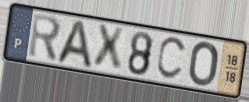8: (127, 30, 155, 78)
A: (53, 18, 94, 71)
C: (154, 36, 188, 82)
O: (187, 41, 220, 89)
R: (27, 12, 63, 65)
X: (92, 23, 126, 74)
